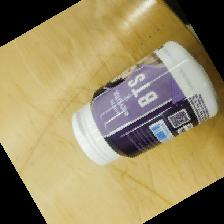Xylitol_BTS: (68, 40, 219, 165)
